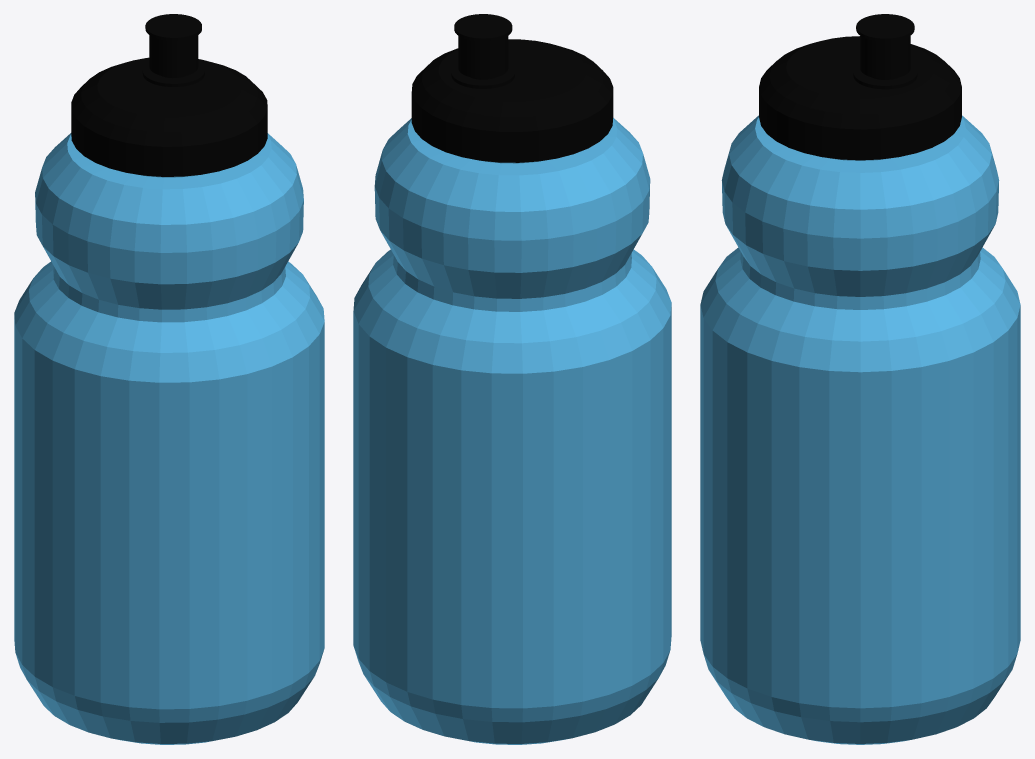
The model's file is water bottle22.11.2023.fbx.
The picture shows the model from 3 angles, left to right: view 1: azimuth 30°, elevation 25°; view 2: azimuth 150°, elevation 25°; view 3: azimuth 270°, elevation 25°; orthographic projection. The views are drawn at different scales.
Visible parts, largest first — view 1: Cylinder, korkki; view 2: Cylinder, korkki; view 3: Cylinder, korkki.
Boxes of the visible parts, x1,y1,x2,y2 form: Cylinder: [14, 133, 324, 744]; korkki: [71, 14, 267, 176]; Cylinder: [353, 118, 671, 744]; korkki: [411, 14, 613, 162]; Cylinder: [700, 115, 1020, 744]; korkki: [759, 14, 961, 160].
Bounding box in the file's own units: 20 × 46.81 × 20.
